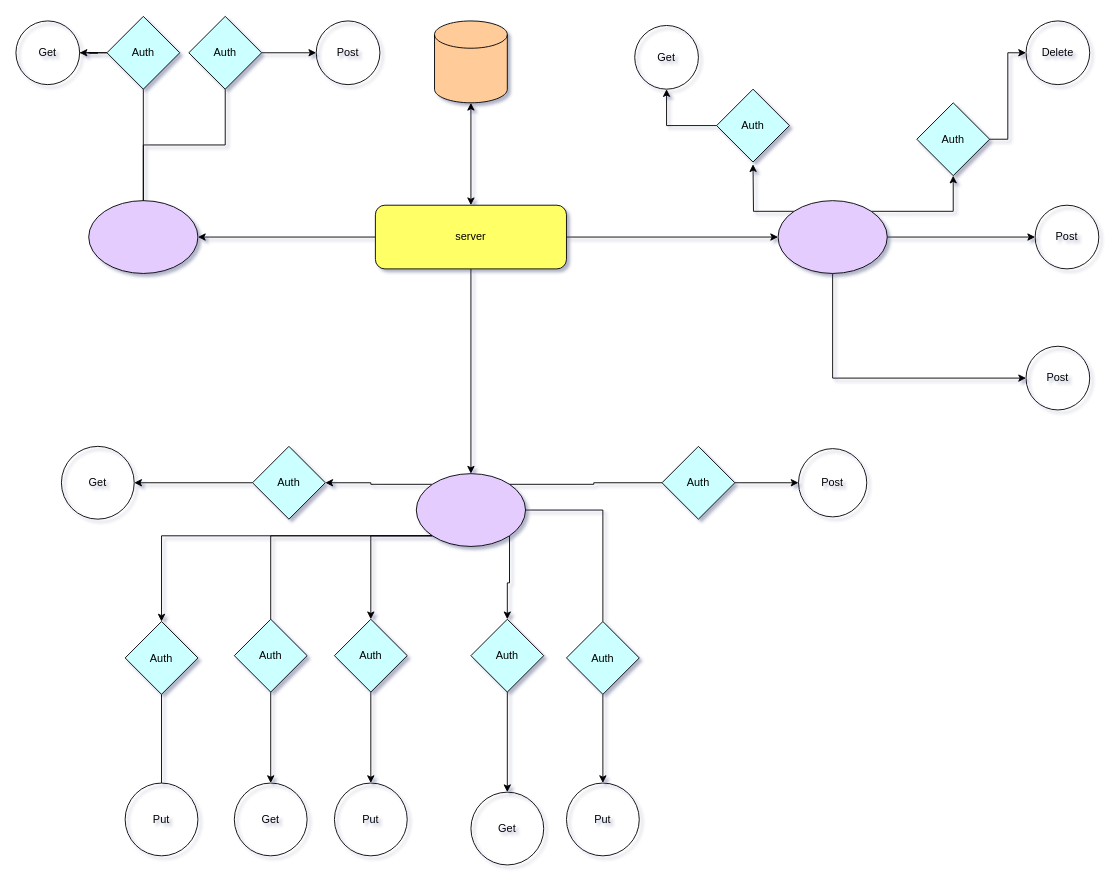
This 1120x886 diagram has some shape labels left out. Here are the shapes that lost their labels. From the top down, the centre of each, then its label:
(x=470, y=61): mongo DB
(x=143, y=236): role
(x=832, y=236): user
(x=470, y=509): Task
